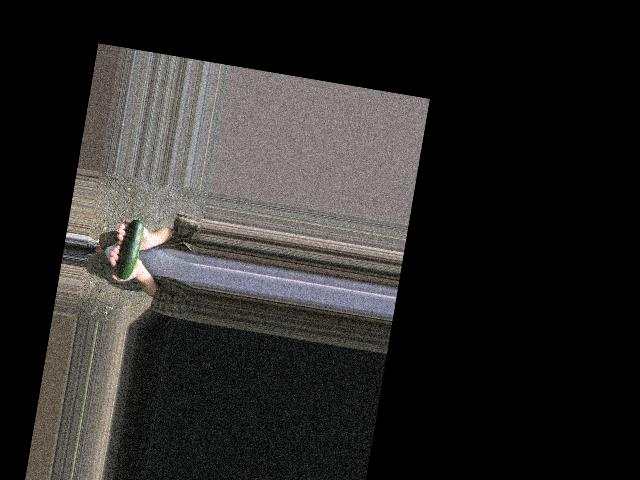cucumber: (115, 210, 146, 280)
